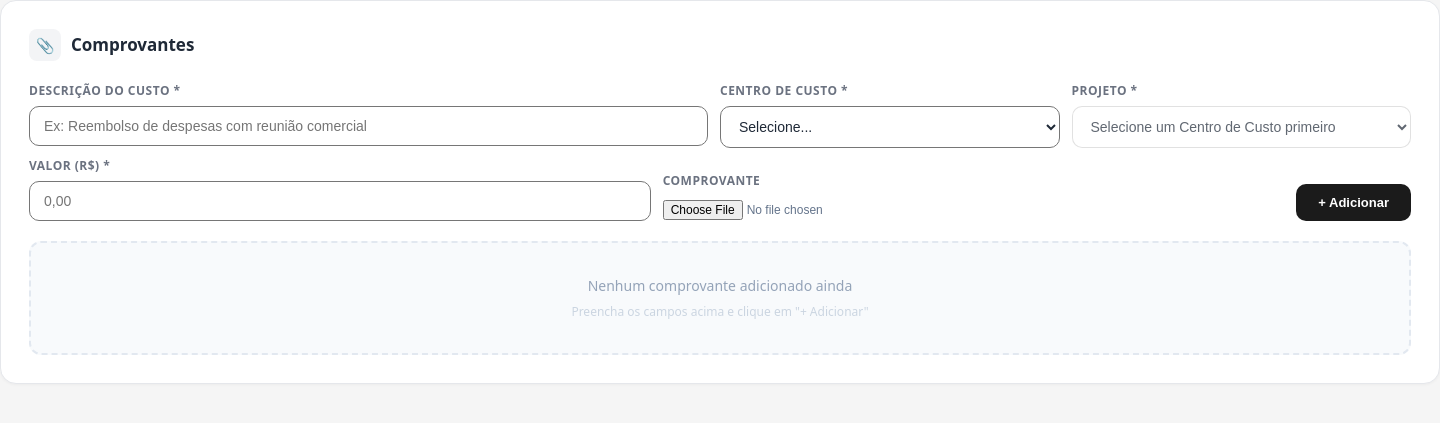
Test: ComprovantesSection › exibe erro quando centro de custo está vazio
Type "Almoço cliente" into the field with placeholder "Ex: Reembolso de despesas com reunião comercial".
click(368, 126); type("Almoço cliente")  # box [29, 106, 708, 146]
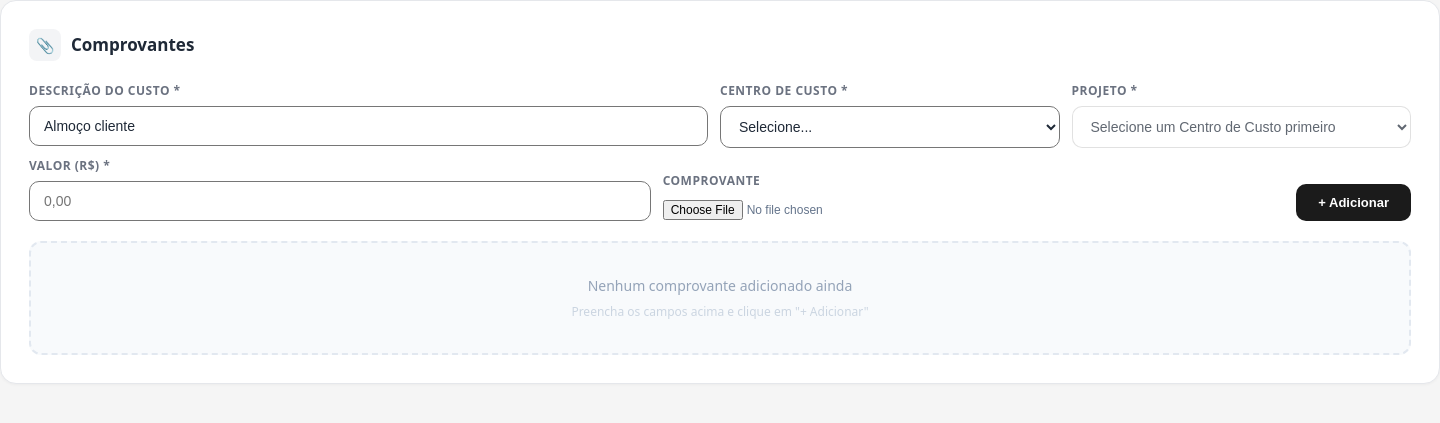
Select "BID - Reforma Tributária" in the dropdown named "Projeto" at (1241, 127), box [1072, 106, 1411, 148]
Type "50" into the number field with placeholder "0,00".
click(340, 201); type("50")  # box [29, 181, 651, 221]
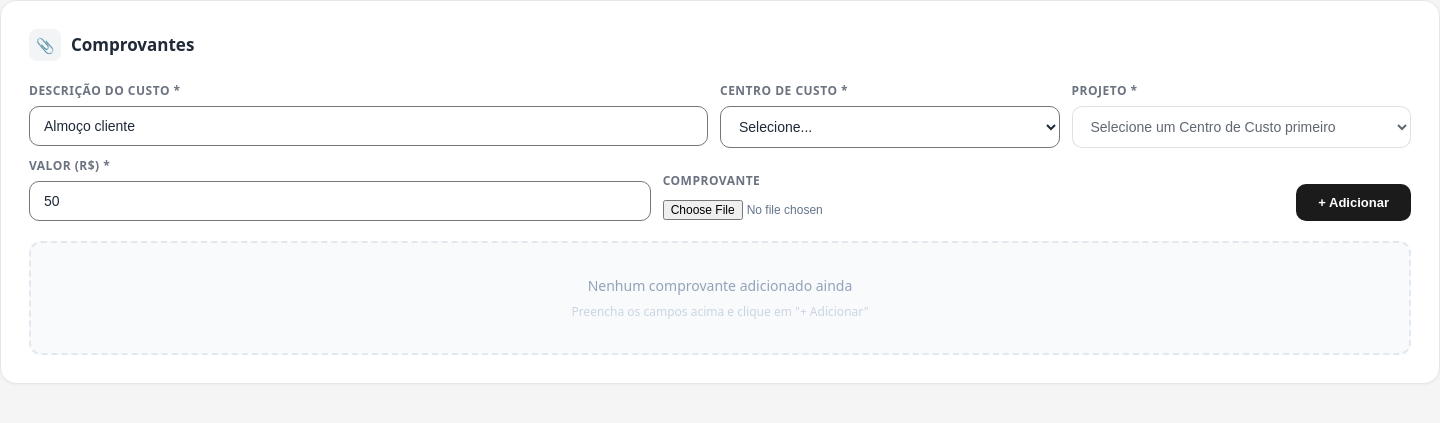
Click the button "+ Adicionar".
click(1354, 203)  # box [1296, 184, 1411, 221]
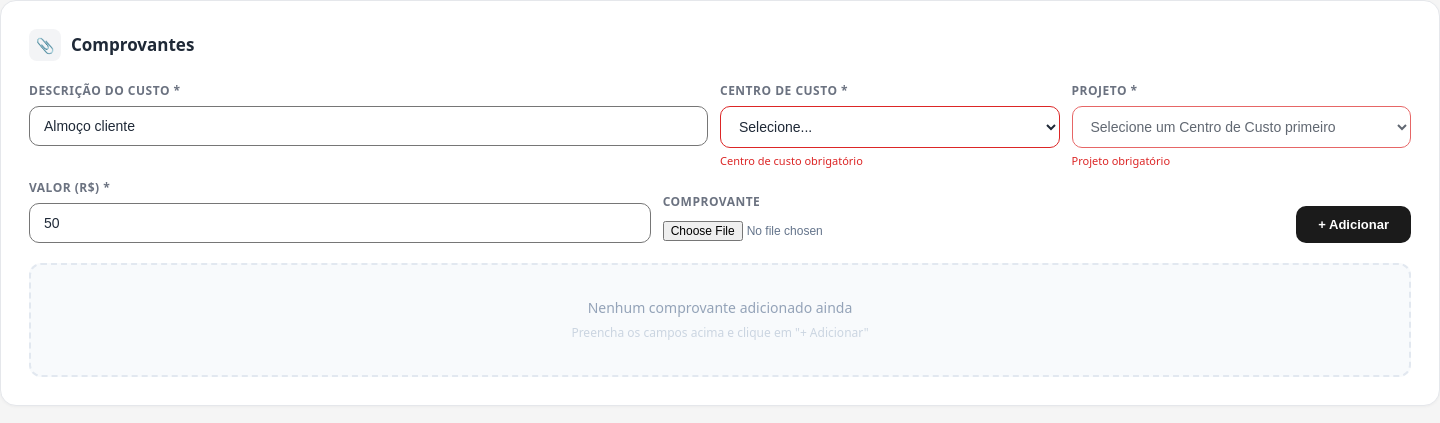
Check: the text "Centro de custo obrigatório" is shown, box [720, 153, 863, 168]
